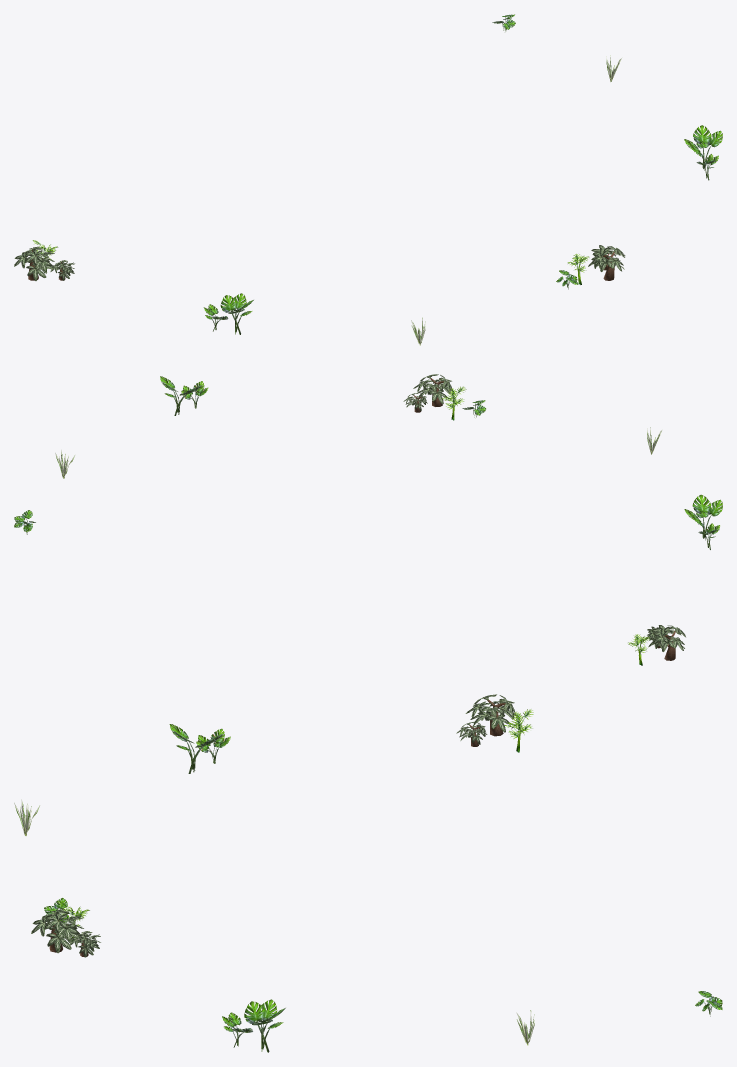
File: mesh_medium_plant_all.glb
The picture shows the model from 3 angles, top to bottom: view 1: azimuth 30°, elevation 25°; view 2: azimuth 150°, elevation 25°; view 3: azimuth 270°, elevation 25°; orthographic projection. The views are drawn at different scales.
Visible parts, largest first — view 1: mesh_medium_plant_1_tut, mesh_medium_plant_4_tut; view 2: mesh_medium_plant_1_tut, mesh_medium_plant_4_tut, mesh_medium_plant_2_tut; view 3: mesh_medium_plant_1_tut, mesh_medium_plant_4_tut, mesh_medium_plant_2_tut, mesh_medium_plant_5_tut.
Part boxes in pixels (x1=…): mesh_medium_plant_1_tut: x1=14, y1=245, x2=625, y2=280; mesh_medium_plant_4_tut: x1=203, y1=125, x2=722, y2=334; mesh_medium_plant_1_tut: x1=403, y1=374, x2=685, y2=660; mesh_medium_plant_4_tut: x1=160, y1=376, x2=722, y2=549; mesh_medium_plant_2_tut: x1=441, y1=386, x2=650, y2=665; mesh_medium_plant_1_tut: x1=31, y1=694, x2=516, y2=957; mesh_medium_plant_4_tut: x1=169, y1=724, x2=285, y2=1052; mesh_medium_plant_2_tut: x1=56, y1=709, x2=533, y2=940; mesh_medium_plant_5_tut: x1=14, y1=799, x2=534, y2=1045.
Bounding box in the file's own units: 13.46 × 1.6 × 10.49.
Materials: 1 (1 with a texture image).
